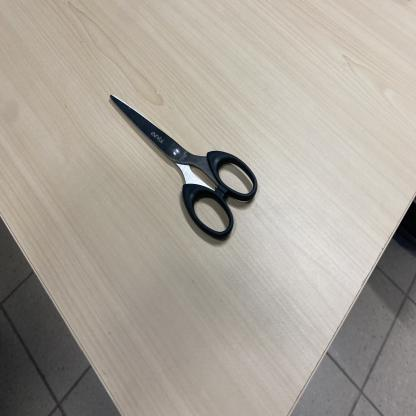scissors: (110, 94, 259, 242)
